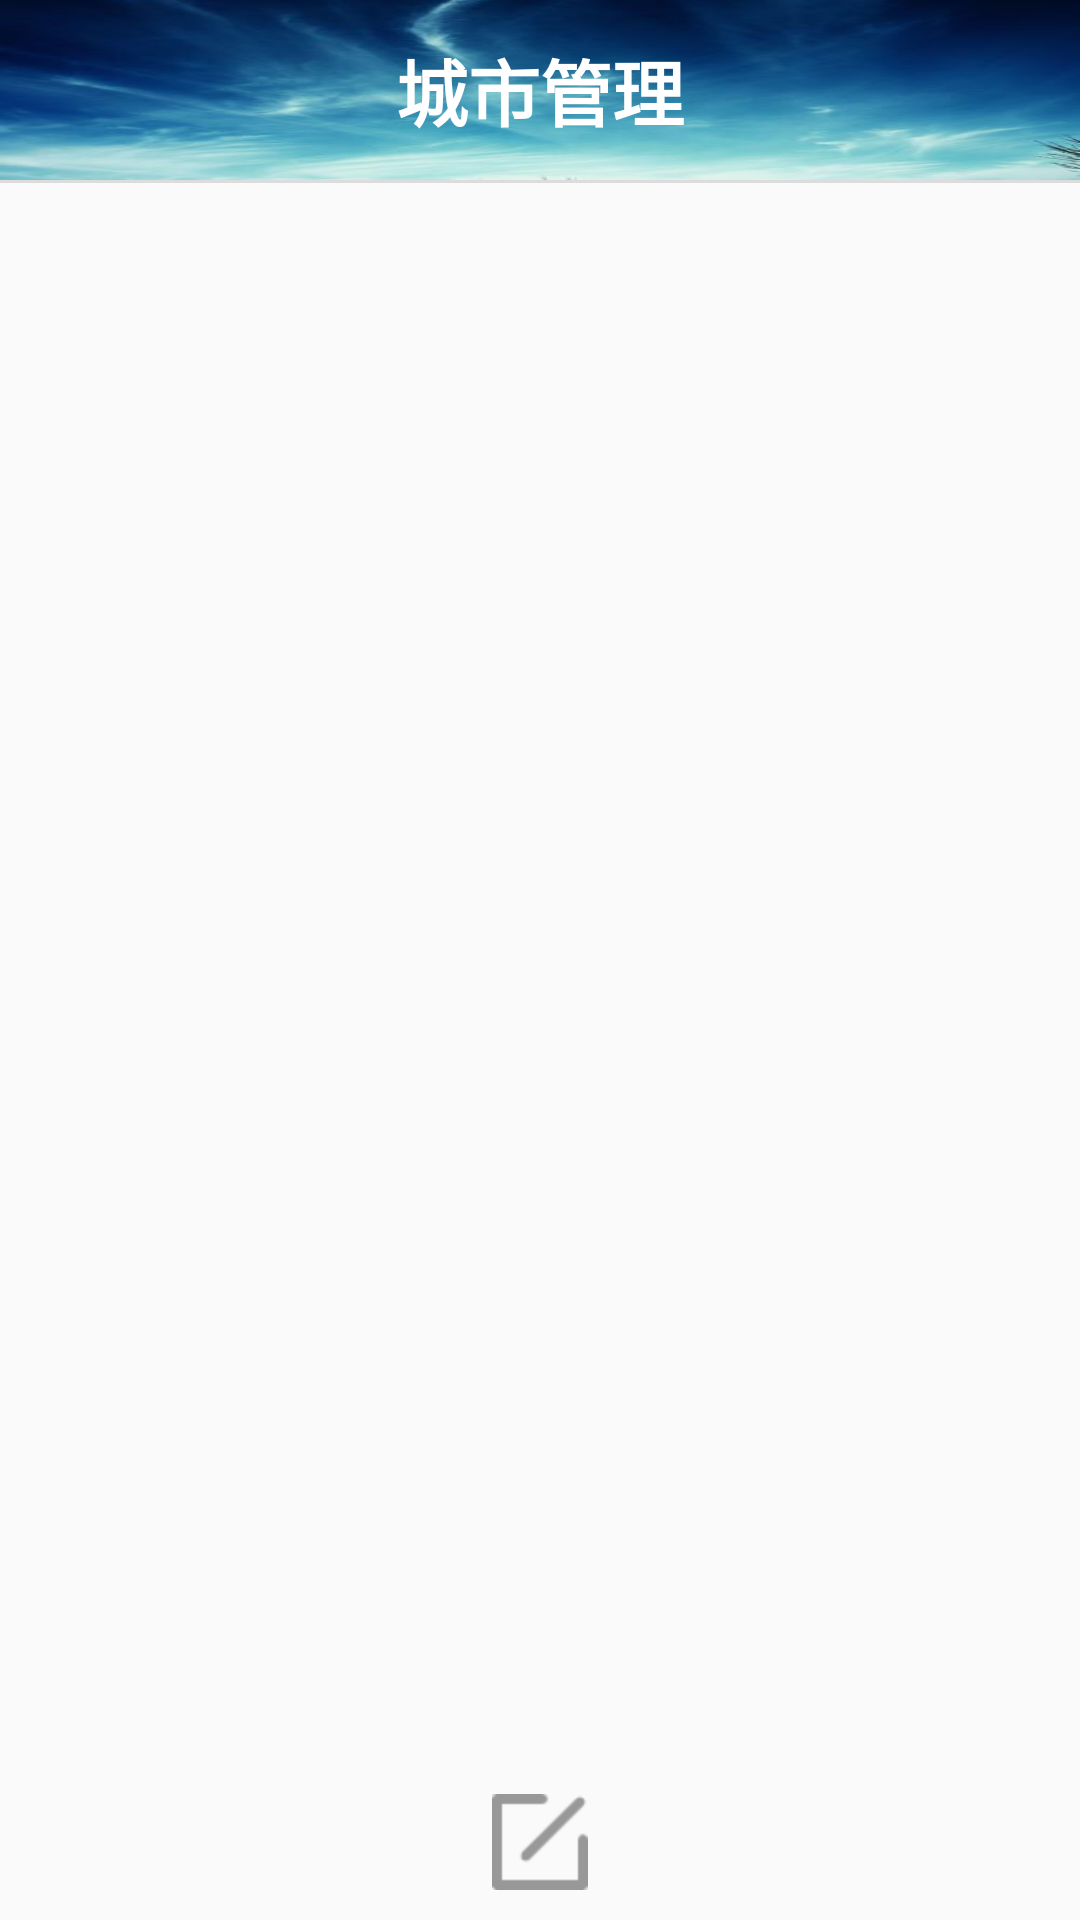

Named icons in this screenshot (1080x1920) and their centers, (x,y):
edit: (540,1842)
